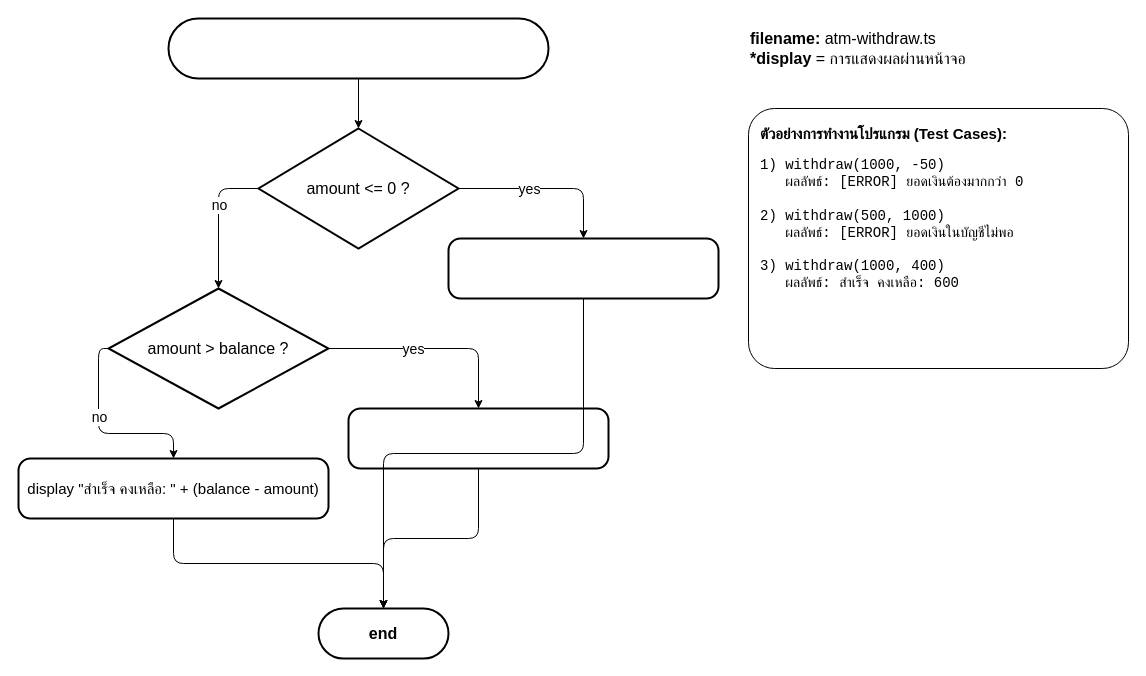
The diagram is 1146 pixels wide and 676 high, and some of its shapes have lost their labels. The shapes that lost their labels are listed below. From the top down, each one's centre as x and y in pixels, then its label:
(x=358, y=48): withdraw(balance : number, amount : number)
(x=583, y=268): display "[ERROR] ยอดเงินต้องมากกว่า 0"
(x=478, y=438): display "[ERROR] ยอดเงินในบัญชีไม่พอ"
